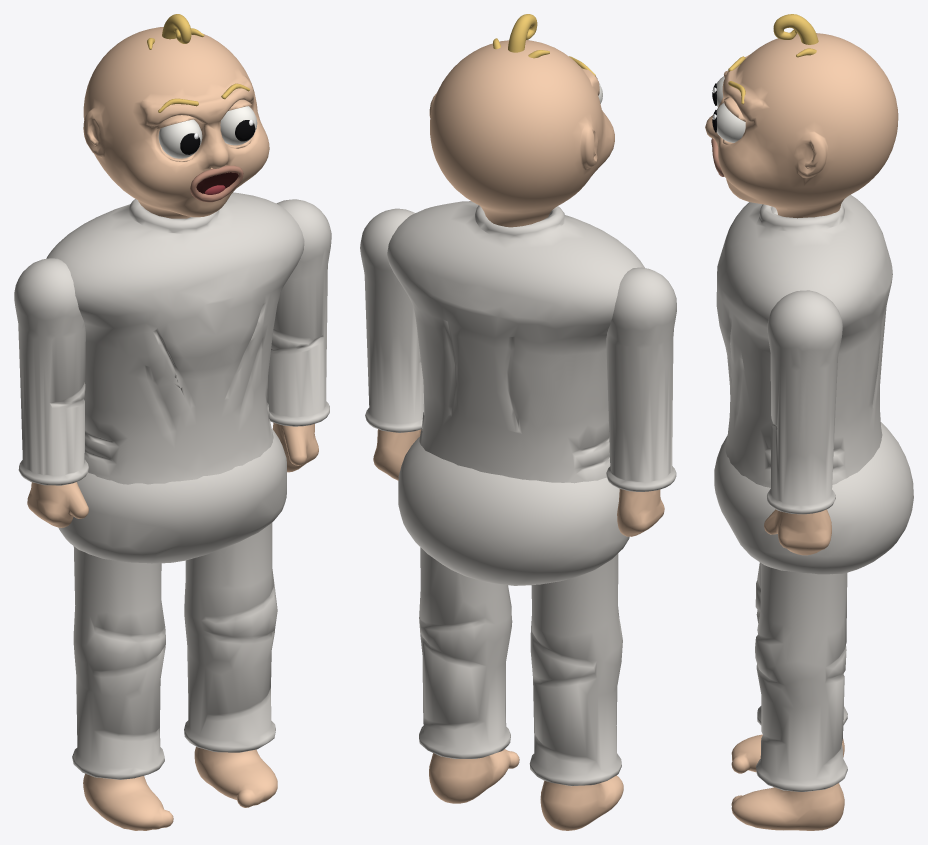
The model's file is baby.glb.
The picture shows the model from 3 angles, left to right: view 1: azimuth 30°, elevation 25°; view 2: azimuth 150°, elevation 25°; view 3: azimuth 270°, elevation 25°; orthographic projection.
Parts seen in each view (by area): view 1: Body_Mesh, Head_Mesh, LegR_Mesh, LegL_Mesh, ArmR_Mesh, ArmL_Mesh, Mouth; view 2: Body_Mesh, Head_Mesh, LegR_Mesh, LegL_Mesh, ArmR_Mesh, ArmL_Mesh; view 3: Body_Mesh, Head_Mesh, LegL_Mesh, ArmL_Mesh, LegR_Mesh.
Boxes of the visible parts, bbox=[...] form: Body_Mesh: bbox=[46, 192, 304, 563]; Head_Mesh: bbox=[83, 14, 269, 218]; LegR_Mesh: bbox=[72, 546, 173, 830]; LegL_Mesh: bbox=[184, 522, 277, 807]; ArmR_Mesh: bbox=[14, 258, 88, 527]; ArmL_Mesh: bbox=[267, 199, 331, 472]; Mouth: bbox=[190, 165, 243, 202]; Body_Mesh: bbox=[387, 201, 644, 585]; Head_Mesh: bbox=[429, 14, 614, 227]; LegR_Mesh: bbox=[529, 553, 623, 830]; LegL_Mesh: bbox=[419, 547, 519, 803]; ArmR_Mesh: bbox=[606, 267, 676, 536]; ArmL_Mesh: bbox=[360, 208, 423, 480]; Body_Mesh: bbox=[714, 194, 913, 574]; Head_Mesh: bbox=[705, 14, 898, 218]; LegL_Mesh: bbox=[731, 563, 847, 830]; ArmL_Mesh: bbox=[764, 290, 842, 555]; LegR_Mesh: bbox=[731, 562, 847, 773].
Size of the model in its own units: 0.2587 by 0.6338 by 0.1532.
